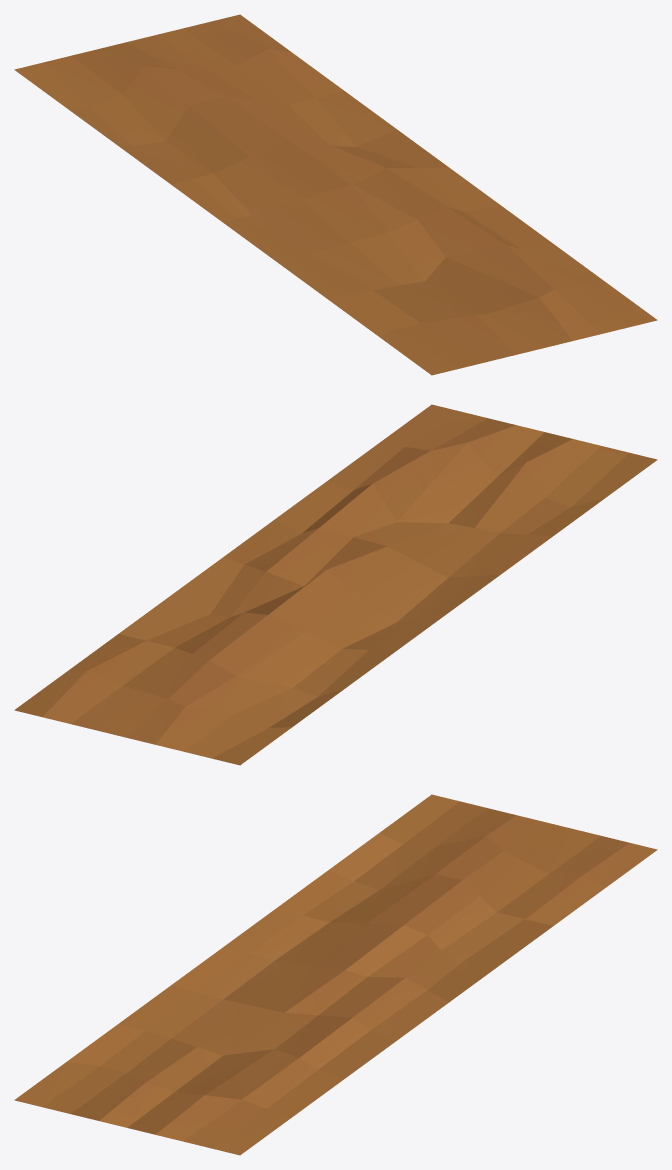
Rendered from cGround_C_Under_1__.fbx.
3 views of the same model, one above another, from view 1: azimuth 30°, elevation 25°; view 2: azimuth 150°, elevation 25°; view 3: azimuth 330°, elevation 25° (orthographic).
Visible parts, largest first — view 1: cGround_C_Under_1; view 2: cGround_C_Under_1; view 3: cGround_C_Under_1.
Boxes of the visible parts, x1,y1,x2,y2 form: cGround_C_Under_1: [14, 14, 657, 375]; cGround_C_Under_1: [14, 404, 657, 765]; cGround_C_Under_1: [14, 794, 657, 1155].
Bounding box in the file's own units: 1000 × 94.64 × 3200.
